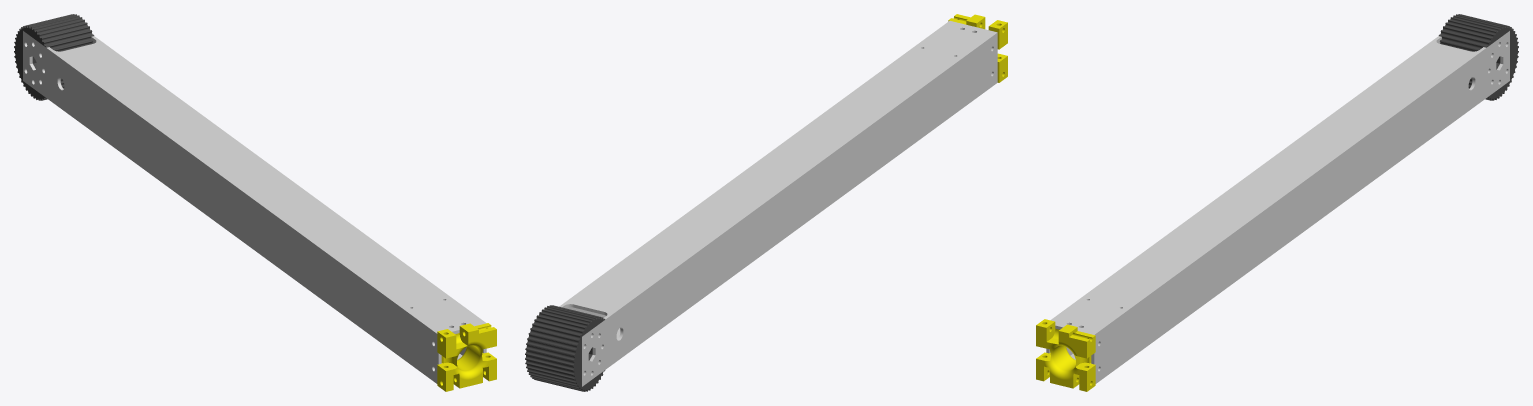
The picture shows the model from 3 angles, left to right: view 1: azimuth 30°, elevation 25°; view 2: azimuth 150°, elevation 25°; view 3: azimuth 330°, elevation 25°; orthographic projection.
Visible parts, largest first — view 1: INNER, INNER TUBE TAIL BLOCK, 45T HTD Pulley 25.4mm Wide (×2); view 2: INNER, 45T HTD Pulley 25.4mm Wide (×2), INNER TUBE TAIL BLOCK; view 3: INNER, INNER TUBE TAIL BLOCK, 45T HTD Pulley 25.4mm Wide (×2).
Boxes of the visible parts, x1,y1,x2,y2 form: INNER: [23, 31, 486, 383]; INNER TUBE TAIL BLOCK: [437, 323, 496, 391]; 45T HTD Pulley 25.4mm Wide (×2): [14, 14, 94, 100]; INNER: [559, 21, 997, 386]; 45T HTD Pulley 25.4mm Wide (×2): [525, 305, 605, 391]; INNER TUBE TAIL BLOCK: [948, 14, 1007, 82]; INNER: [1046, 31, 1509, 383]; INNER TUBE TAIL BLOCK: [1036, 319, 1095, 391]; 45T HTD Pulley 25.4mm Wide (×2): [1438, 14, 1518, 100].
Size of the model in its own units: 0.054 by 0.0705 by 0.794.
